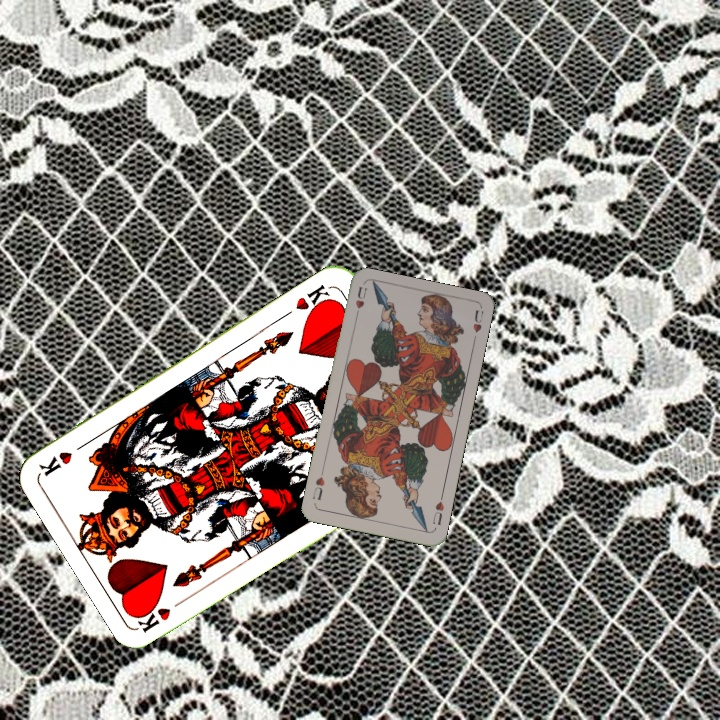HK: (132, 593, 190, 635), (291, 280, 336, 318)
HU: (351, 282, 369, 322), (428, 491, 447, 528)
